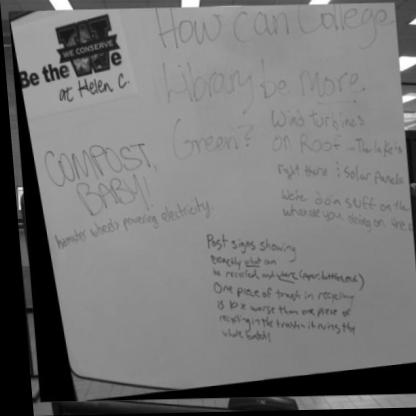Handwritten text: (152, 52, 373, 108), (143, 6, 392, 55), (46, 194, 211, 257), (36, 128, 156, 190), (264, 203, 409, 242), (206, 312, 356, 343), (64, 171, 151, 223), (262, 130, 403, 162), (265, 185, 406, 217), (203, 282, 360, 310), (160, 115, 243, 165), (263, 160, 403, 189), (204, 297, 353, 324), (195, 231, 304, 261), (200, 270, 357, 289), (262, 107, 368, 134), (197, 253, 277, 272), (206, 328, 264, 349)
